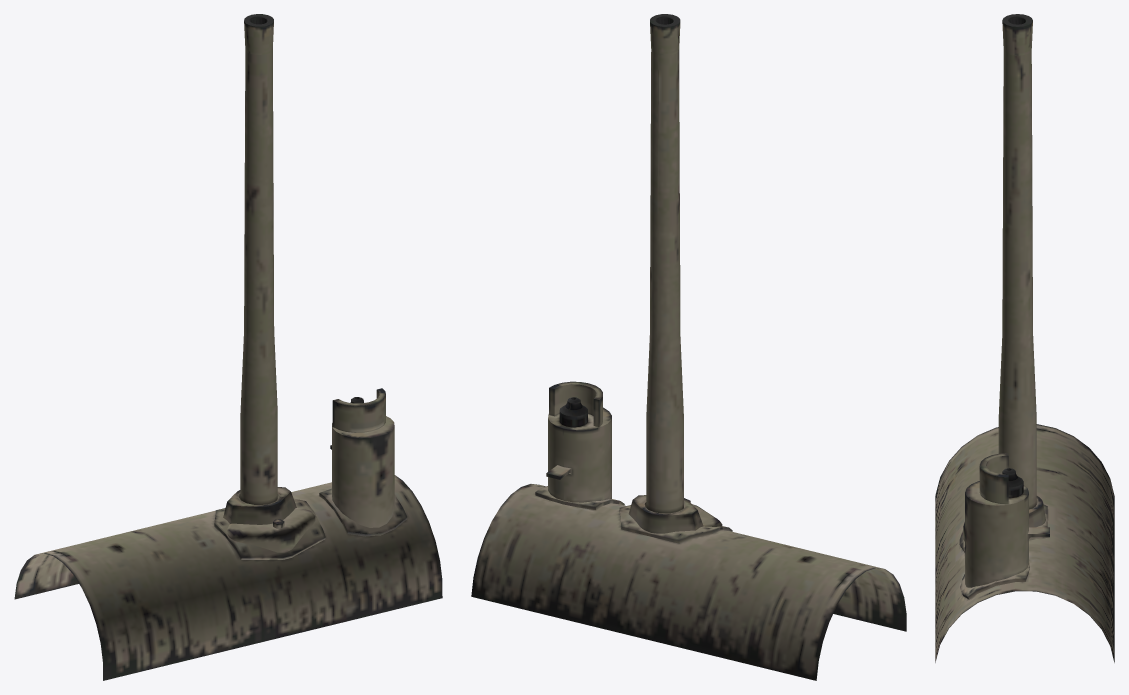
Rendered from Gun_01.glb.
3 views of the same model, side by side, from view 1: azimuth 30°, elevation 25°; view 2: azimuth 150°, elevation 25°; view 3: azimuth 270°, elevation 25° (orthographic).
Visible parts, largest first — view 1: set_0_group_0; view 2: set_0_group_0; view 3: set_0_group_0.
Part boxes in pixels (<box>): set_0_group_0: <box>14,14,442,680</box>; set_0_group_0: <box>471,14,906,680</box>; set_0_group_0: <box>935,14,1114,662</box>.
Bounding box in the file's own units: 0.9356 × 1.54 × 0.423.
Materials: 1 (1 with a texture image).
